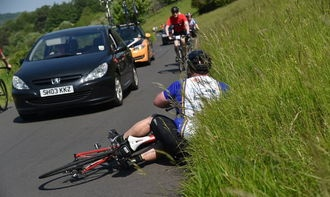falling: (109, 46, 232, 167)
